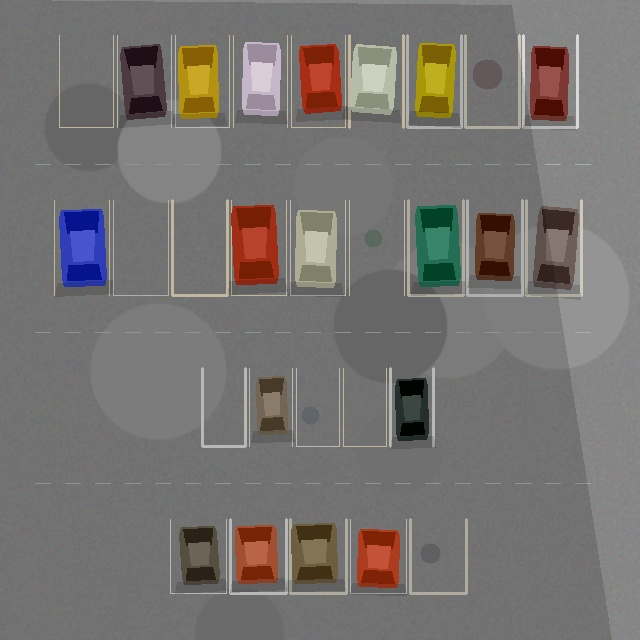space-empty: (113, 200, 168, 295), (172, 200, 227, 295), (349, 200, 404, 295), (59, 35, 113, 127), (465, 35, 519, 127), (410, 519, 466, 593), (202, 368, 245, 446), (296, 368, 339, 446), (343, 368, 386, 446)
space-occupied: (54, 200, 109, 295), (231, 200, 286, 295), (290, 200, 345, 295), (408, 200, 463, 295), (467, 200, 522, 295), (526, 200, 581, 295), (117, 35, 171, 127), (175, 35, 229, 127), (233, 35, 287, 127), (291, 35, 345, 127), (349, 35, 403, 127), (407, 35, 461, 127), (523, 35, 577, 127), (170, 519, 226, 593), (230, 519, 286, 593), (290, 519, 346, 593), (350, 519, 406, 593), (249, 368, 292, 446), (390, 368, 433, 446)
